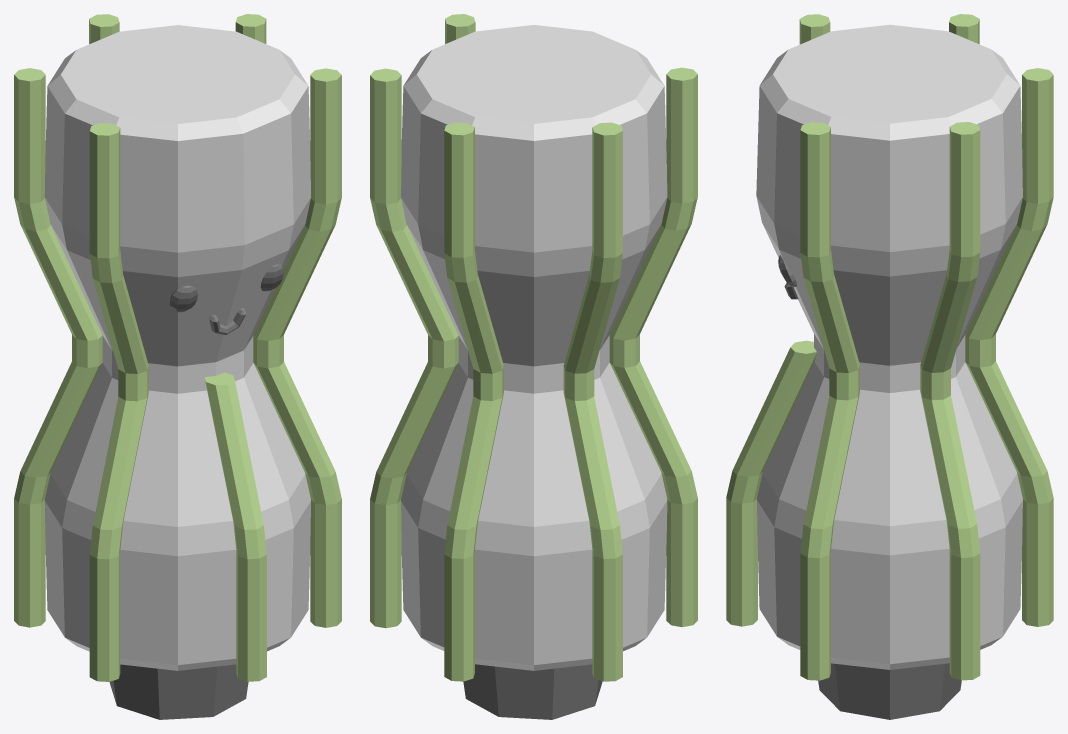
Rendered from SM_AccelerationRobot.fbx.
3 views of the same model, side by side, from view 1: azimuth 30°, elevation 25°; view 2: azimuth 150°, elevation 25°; view 3: azimuth 270°, elevation 25° (orthographic).
Visible parts, largest first — view 1: Acceleration; view 2: Acceleration; view 3: Acceleration.
Part boxes in pixels (box(x1,y1,x2,y2)): Acceleration: box(14, 14, 341, 719); Acceleration: box(370, 14, 697, 719); Acceleration: box(726, 14, 1053, 719).
Bounding box in the file's own units: 78.08 × 185 × 89.27.
